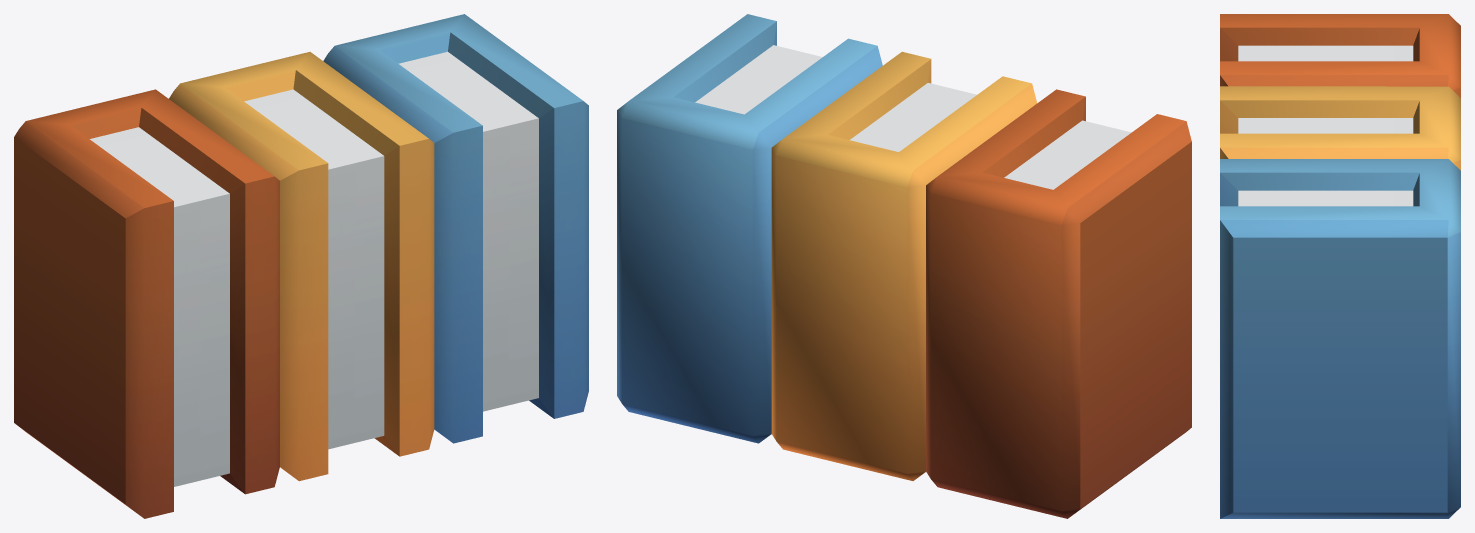
Rendered from books.glb.
3 views of the same model, side by side, from view 1: azimuth 30°, elevation 25°; view 2: azimuth 150°, elevation 25°; view 3: azimuth 270°, elevation 25° (orthographic). The views are drawn at different scales.
Parts seen in each view (by area): view 1: book_set; view 2: book_set; view 3: book_set.
Boxes of the visible parts, x1=… form: book_set: x1=14, y1=14, x2=588, y2=518; book_set: x1=617, y1=14, x2=1191, y2=518; book_set: x1=1220, y1=14, x2=1460, y2=518.
Size of the model in its own units: 0.3 by 0.1923 by 0.1404.
Materials: 1 (1 with a texture image).
